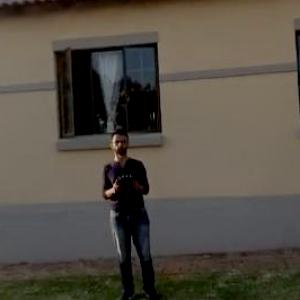follow: (100, 125, 162, 299)
